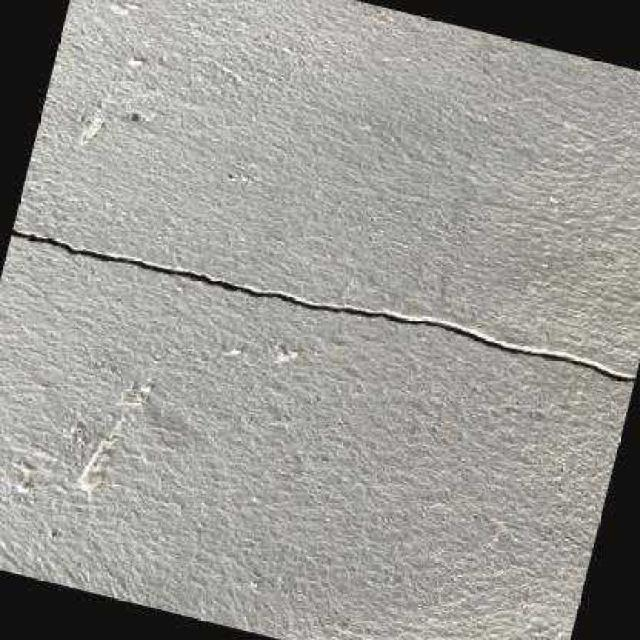D00: (11, 218, 637, 387)
